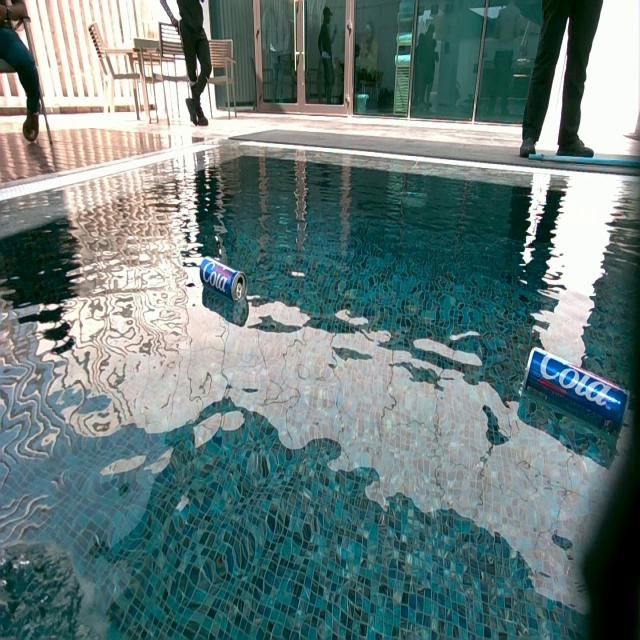Cans: (522, 350, 633, 432), (199, 260, 246, 304)
